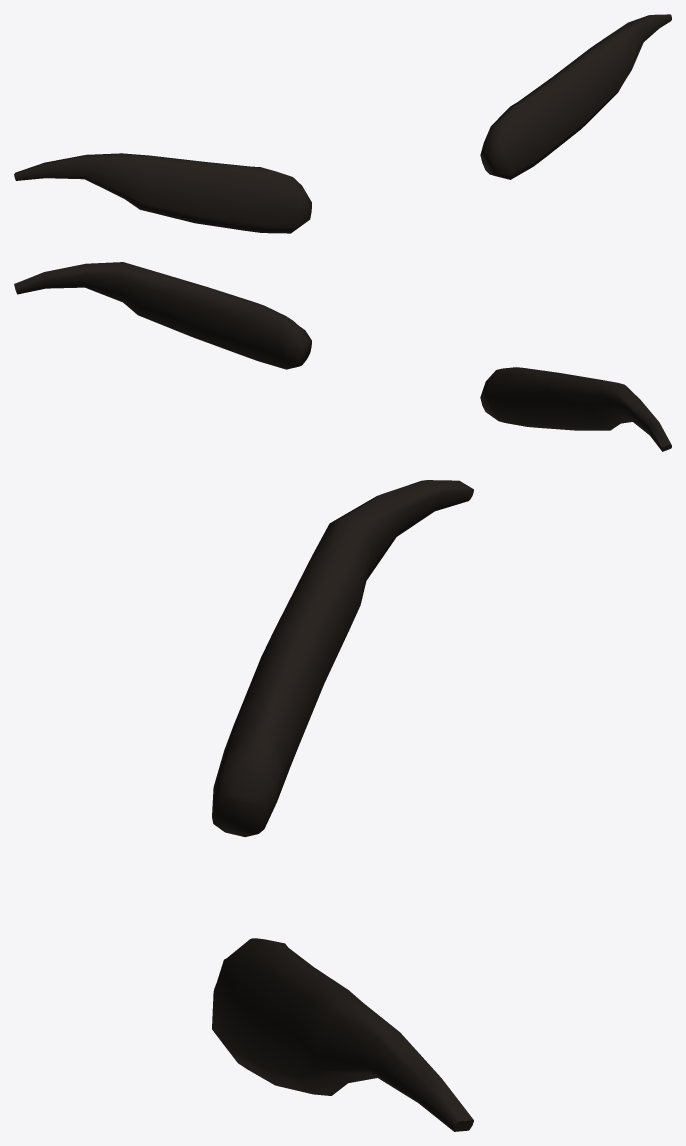
The model's file is Eyebrows_03_01.fbx.
3 renders of one model, top to bottom at view 1: azimuth 30°, elevation 25°; view 2: azimuth 150°, elevation 25°; view 3: azimuth 270°, elevation 25°, orthographic. The views are drawn at different scales.
Visible parts, largest first — view 1: Eyebrows_03_01; view 2: Eyebrows_03_01; view 3: Eyebrows_03_01.
Part boxes in pixels (box(x1,y1,x2,y2)): Eyebrows_03_01: box(14, 14, 671, 233); Eyebrows_03_01: box(14, 262, 671, 451); Eyebrows_03_01: box(212, 480, 473, 1131).
Bounding box in the file's own units: 18.82 × 2.52 × 3.25.
